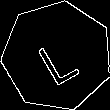L_NW: (31, 26, 83, 86)
